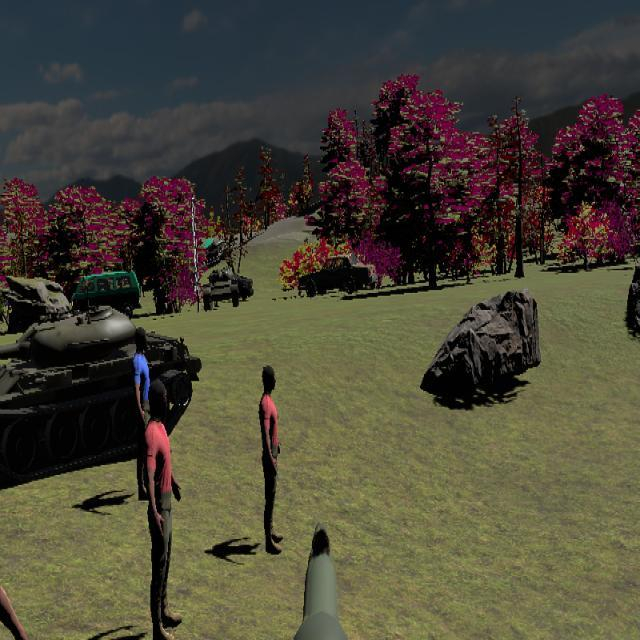Human: (143, 381, 182, 636), (0, 488, 43, 639), (258, 365, 285, 553)
Tank: (0, 305, 200, 492), (201, 266, 241, 311)
car: (71, 269, 142, 322), (297, 252, 379, 297)
